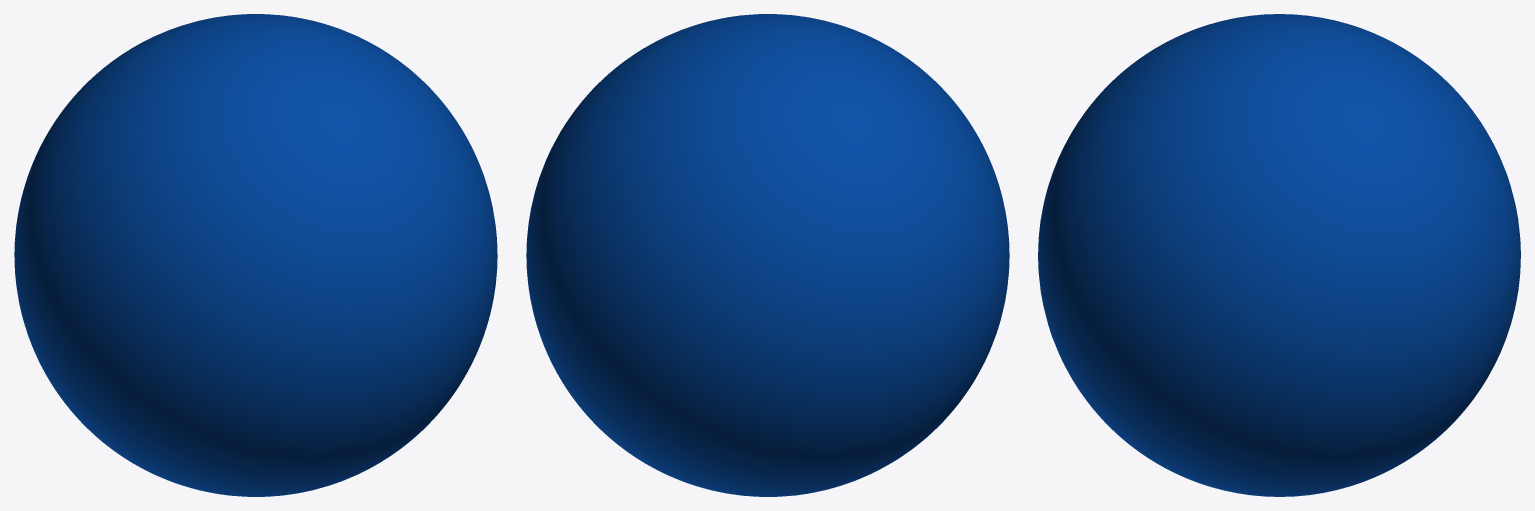
Rendered from ball2.gltf.
The picture shows the model from 3 angles, left to right: view 1: azimuth 30°, elevation 25°; view 2: azimuth 150°, elevation 25°; view 3: azimuth 270°, elevation 25°; orthographic projection.
Parts seen in each view (by area): view 1: ball; view 2: ball; view 3: ball.
Boxes of the visible parts, x1,y1,x2,y2 form: ball: (14,14,497,496); ball: (526,14,1009,496); ball: (1038,14,1520,496).
Size of the model in its own units: 200 by 200 by 200.
Materials: 1 (1 with a texture image).
